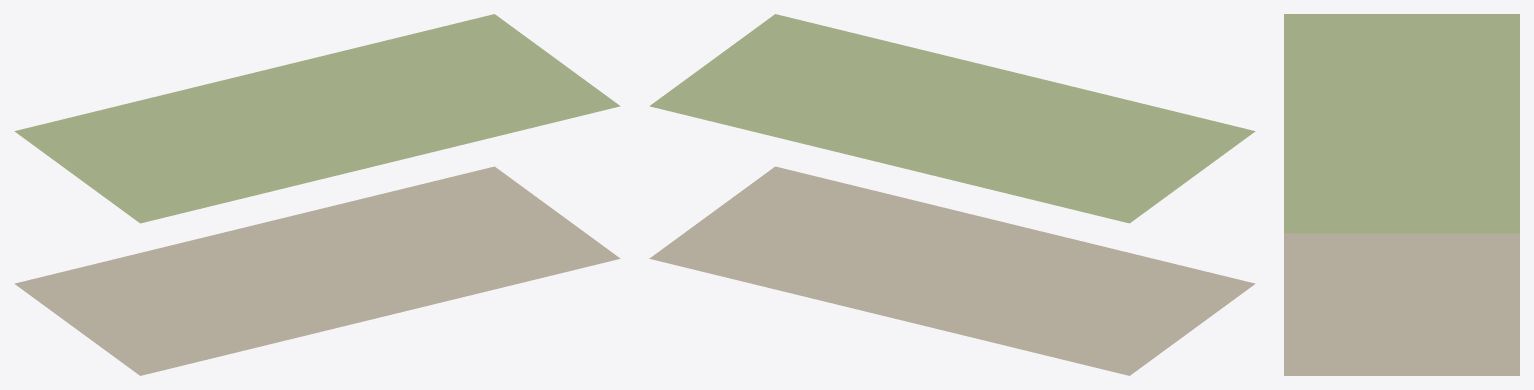
The picture shows the model from 3 angles, left to right: view 1: azimuth 30°, elevation 25°; view 2: azimuth 150°, elevation 25°; view 3: azimuth 270°, elevation 25°; orthographic projection. The views are drawn at different scales.
Parts seen in each view (by area): view 1: s_12_-8__soil, s_12_-8__grass; view 2: s_12_-8__soil, s_12_-8__grass; view 3: s_12_-8__grass, s_12_-8__soil.
Boxes of the visible parts, x1,y1,x2,y2 form: s_12_-8__soil: (14, 166, 620, 375); s_12_-8__grass: (14, 14, 620, 223); s_12_-8__soil: (649, 166, 1255, 375); s_12_-8__grass: (649, 14, 1255, 223); s_12_-8__grass: (1284, 14, 1519, 233); s_12_-8__soil: (1284, 233, 1519, 375).
Bounding box in the file's own units: 66 × 20.01 × 30.
